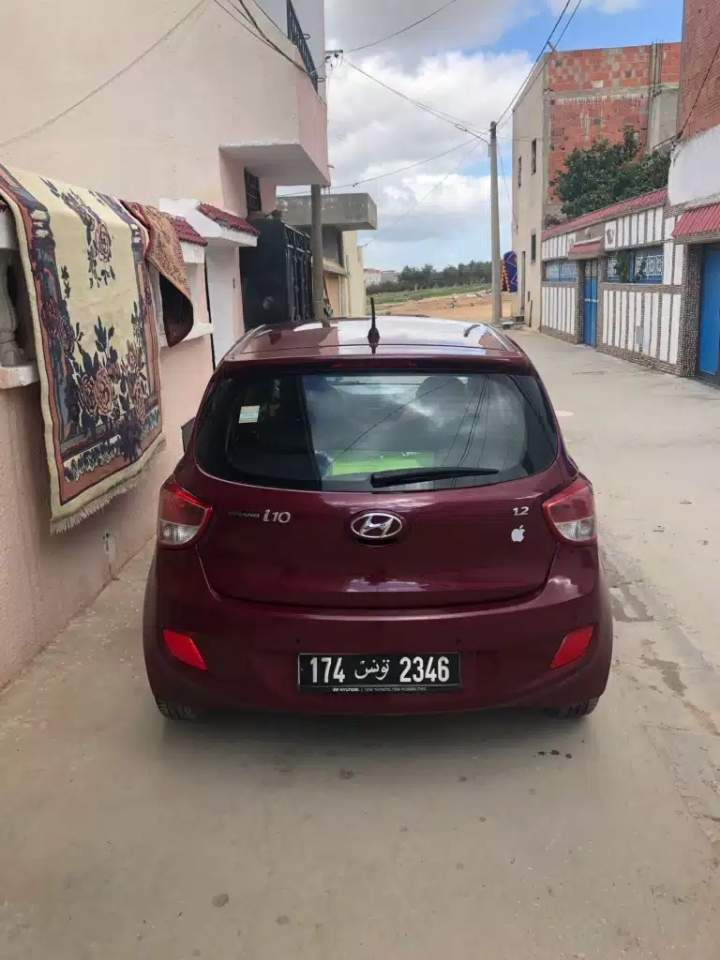LP: (296, 649, 464, 693)
